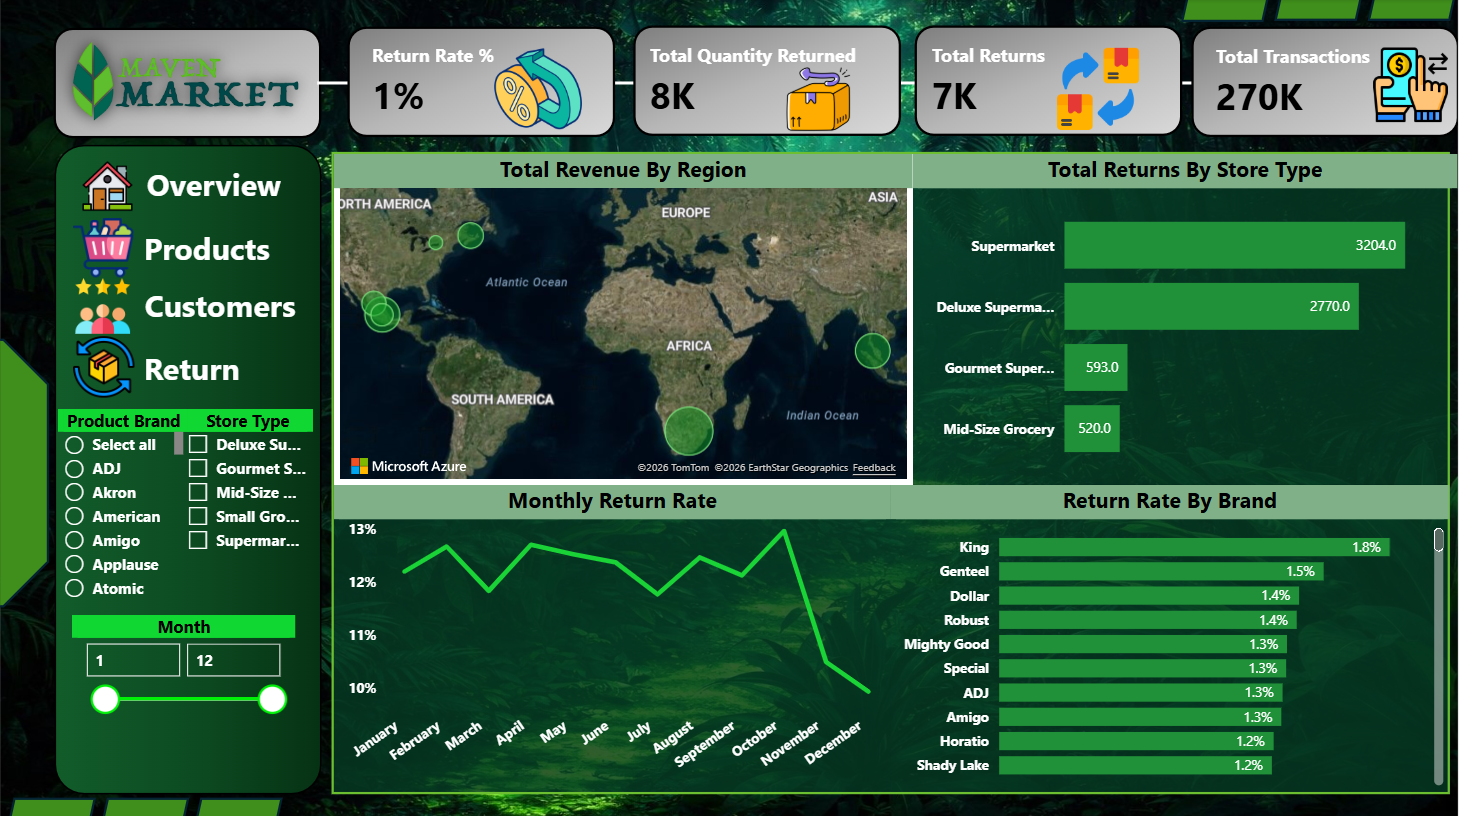

Layout of this report page (visuals, bound fields, positions):
{"tool":"powerbi","page":{"name":"Returns","canvas":[1280,720],"ordinal":3},"visuals":[{"type":"image","box":[64.5,191.5,52.5,53.8],"z":0,"group":"g4"},{"type":"actionButton","box":[122,192,196,44],"z":0},{"type":"image","box":[63.2,245.2,53.8,48.8],"z":0,"group":"g2"},{"type":"image","box":[64.5,295.2,53.8,56.2],"z":0,"group":"g3"},{"type":"group","id":"g1","title":"Group 1","box":[69,139,193,53],"z":1000},{"type":"image","box":[69,142.1,50,43.8],"z":1000,"group":"g1"},{"type":"textbox","box":[122,245.2,148.8,50],"z":1000,"group":"g2"},{"type":"textbox","box":[122,300.2,106.2,51.2],"z":1000,"group":"g3"},{"type":"textbox","box":[123.1,139,138.8,52.5],"z":2000,"group":"g1"},{"type":"actionButton","box":[68,142,196,44],"z":2000},{"type":"textbox","box":[121.7,194.9,133.8,48.8],"z":2003,"group":"g4"},{"type":"group","id":"g2","title":"Group 3","box":[63.2,245.2,207.5,50],"z":3000},{"type":"actionButton","box":[58,246,209,50],"z":4000},{"type":"group","id":"g3","title":"Group 4","box":[64.5,295.2,163.8,56.2],"z":5000},{"type":"actionButton","box":[58,296,209,57],"z":6000},{"type":"group","id":"g4","title":"Group 2","box":[64.5,191.5,191.2,53.8],"z":7000},{"type":"actionButton","box":[65,191,196,53],"z":8000},{"type":"group","id":"g5","title":"Group 8","box":[297.3,5.5,240,130.9],"z":9000},{"type":"cardVisual","fields":{"Data":["KPIs.Return Rate %"]},"box":[297.3,5.5,240,131.4],"z":10000,"group":"g5"},{"type":"cardVisual","fields":{"Data":["KPIs.Total Returns"]},"box":[789.1,5.5,240,131.4],"z":10000,"group":"g7"},{"type":"group","id":"g6","title":"Group 8","box":[542,6,240.9,130.9],"z":10000},{"type":"cardVisual","fields":{"Data":["KPIs.Total Quantity Returned"]},"box":[542,6,240.9,130.9],"z":10000,"group":"g6"},{"type":"cardVisual","fields":{"Data":["KPIs.Transactions Count"]},"box":[1039.1,6.4,240,131.4],"z":10000,"group":"g8"},{"type":"group","id":"g7","title":"Group 8","box":[789.1,5.5,240,130.9],"z":11000},{"type":"group","id":"g8","title":"Group 8","box":[1039.1,6.4,240,131.4],"z":12000},{"type":"azureMap","title":"Total Revenue By Region","fields":{"Size":["KPIs.Total Revenue"],"Category":["Regions.sales_region"]},"box":[293.6,136.4,508.2,290],"z":13000},{"type":"image","box":[417.3,40.2,109,77],"z":13002,"group":"g5"},{"type":"image","box":[909.1,40.2,109,77],"z":13002,"group":"g7"},{"type":"image","box":[1199,40.6,80,70],"z":13002,"group":"g8"},{"type":"image","box":[673.8,57.8,90,60],"z":13002,"group":"g6"},{"type":"lineChart","title":"Monthly Return Rate","fields":{"Y":["KPIs.Return Rate %"],"Category":["Calendar.Month Name"]},"box":[293.6,426.4,489.1,269.1],"z":14000},{"type":"clusteredBarChart","title":"Return Rate By Brand","fields":{"Category":["Products.product_brand"],"Y":["KPIs.Return Rate %"]},"box":[782.3,426.7,490,268.7],"z":15000},{"type":"clusteredBarChart","title":"Total Returns By Store Type","fields":{"Category":["Stores.store_type"],"Y":["KPIs.Total Returns"]},"box":[801.8,136.4,478.2,290],"z":16000},{"type":"slicer","title":"Month","fields":{"Values":["Calendar.Month"]},"box":[63.6,540.9,196.4,96.4],"z":17000},{"type":"listSlicer","title":"Product Brand","fields":{"Values":["Products.product_brand"]},"box":[50.9,360,115.5,170.9],"z":18000},{"type":"listSlicer","title":"Store Type","fields":{"Values":["Stores.store_type"]},"box":[160,360,115.5,170.9],"z":19000}]}

Visuals, with their boxes in screenshot pixels (x1, y1, x2, y2), scaled from the page's 1280x720 canvas onto the 1459x816 screenshot:
image: [74, 217, 133, 278]
actionButton: [139, 218, 362, 267]
image: [72, 278, 133, 333]
image: [74, 335, 135, 398]
"Group 1" group: [79, 158, 299, 218]
image: [79, 161, 136, 211]
textbox: [139, 278, 309, 335]
textbox: [139, 340, 260, 398]
textbox: [140, 158, 299, 217]
actionButton: [78, 161, 301, 211]
textbox: [139, 221, 291, 276]
"Group 3" group: [72, 278, 309, 335]
actionButton: [66, 279, 304, 335]
"Group 4" group: [74, 335, 260, 398]
actionButton: [66, 335, 304, 400]
"Group 2" group: [74, 217, 291, 278]
actionButton: [74, 216, 297, 277]
"Group 8" group: [339, 6, 612, 155]
cardVisual - KPIs.Return Rate %: [339, 6, 612, 155]
cardVisual - KPIs.Total Returns: [899, 6, 1173, 155]
"Group 8" group: [618, 7, 892, 155]
cardVisual - KPIs.Total Quantity Returned: [618, 7, 892, 155]
cardVisual - KPIs.Transactions Count: [1184, 7, 1458, 156]
"Group 8" group: [899, 6, 1173, 155]
"Group 8" group: [1184, 7, 1458, 156]
"Total Revenue By Region" azureMap: [335, 155, 914, 483]
image: [476, 46, 600, 133]
image: [1036, 46, 1160, 133]
image: [1367, 46, 1458, 125]
image: [768, 66, 871, 134]
"Monthly Return Rate" lineChart: [335, 483, 892, 788]
"Return Rate By Brand" clusteredBarChart: [892, 484, 1450, 788]
"Total Returns By Store Type" clusteredBarChart: [914, 155, 1458, 483]
"Month" slicer: [72, 613, 296, 722]
"Product Brand" listSlicer: [58, 408, 190, 602]
"Store Type" listSlicer: [182, 408, 314, 602]
